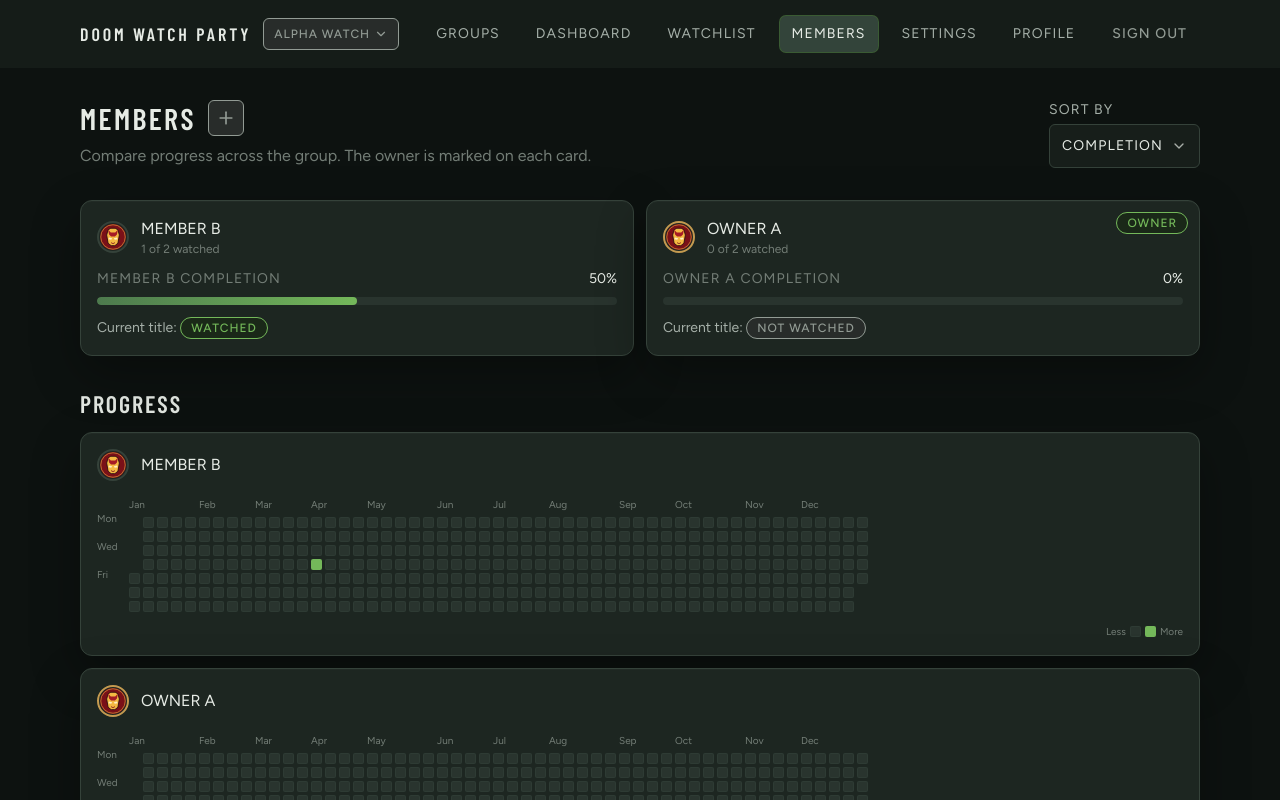
members › lets the owner open the create-invite flow from Add members
The image size is (1280, 800).
Click the button named "Add members". click: (226, 118)
box: x1=208 y1=100 x2=244 y2=136
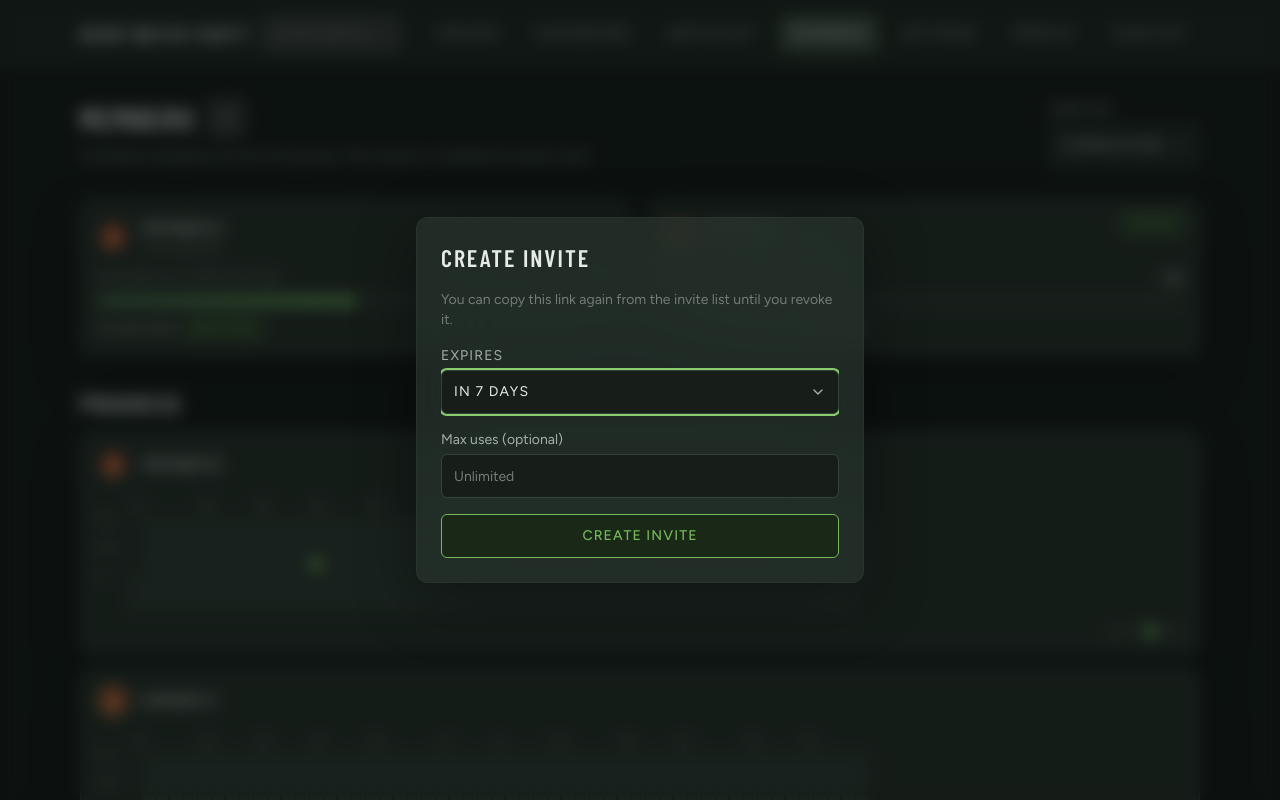
Now the dialog "Create invite" is shown, box x1=416 y1=217 x2=864 y2=583
Now the dropdown named "Expires" is shown, box x1=441 y1=370 x2=839 y2=414
